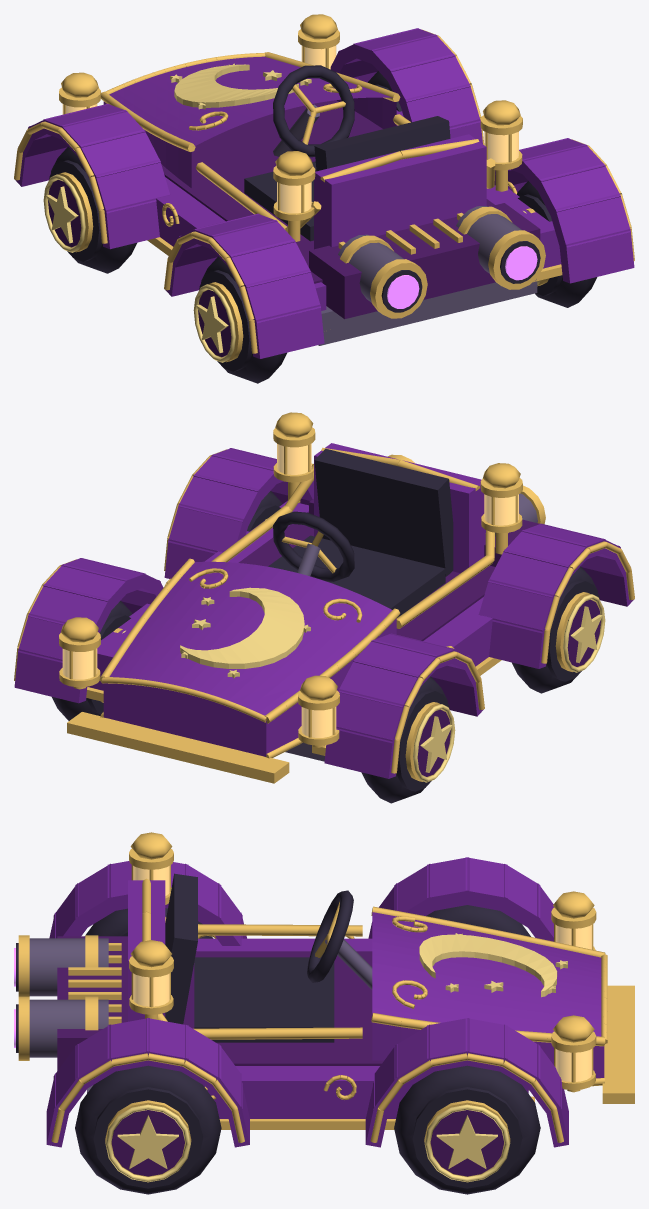
File: kart-lod1.glb
The picture shows the model from 3 angles, top to bottom: view 1: azimuth 30°, elevation 25°; view 2: azimuth 150°, elevation 25°; view 3: azimuth 270°, elevation 25°; orthographic projection. The views are drawn at different scales.
Parts seen in each view (by area): view 1: Chassis, AccentMesh, Wheel_FL, Wheel_RL, Exhaust_L, Exhaust_R, SteeringWheel, Wheel_RR; view 2: Chassis, AccentMesh, Wheel_FL, Wheel_RL, SteeringWheel, Wheel_FR, Exhaust_L, Wheel_RR; view 3: Chassis, AccentMesh, Wheel_FR, Wheel_RR, Exhaust_R, Exhaust_L, SteeringWheel, Wheel_FL, Wheel_RL.
Part boxes in pixels (x1=…): Chassis: x1=15, y1=28, x2=634, y2=358; AccentMesh: x1=14, y1=14, x2=634, y2=353; Wheel_FL: x1=43, y1=146, x2=136, y2=273; Wheel_RL: x1=193, y1=256, x2=286, y2=383; Exhaust_L: x1=338, y1=234, x2=427, y2=318; Exhaust_R: x1=456, y1=206, x2=545, y2=289; SteeringWheel: x1=273, y1=65, x2=354, y2=157; Wheel_RR: x1=517, y1=181, x2=597, y2=307; Chassis: x1=14, y1=443, x2=633, y2=778; AccentMesh: x1=14, y1=412, x2=634, y2=783; Wheel_FL: x1=361, y1=676, x2=455, y2=803; Wheel_RL: x1=512, y1=566, x2=605, y2=693; SteeringWheel: x1=273, y1=511, x2=354, y2=581; Wheel_FR: x1=52, y1=600, x2=131, y2=720; Exhaust_L: x1=495, y1=485, x2=545, y2=536; Wheel_RR: x1=247, y1=491, x2=282, y2=531; Chassis: x1=46, y1=857, x2=604, y2=1147; AccentMesh: x1=51, y1=832, x2=634, y2=1142; Wheel_FR: x1=394, y1=1065, x2=540, y2=1194; Wheel_RR: x1=75, y1=1065, x2=221, y2=1194; Exhaust_R: x1=14, y1=996, x2=108, y2=1060; Exhaust_L: x1=14, y1=935, x2=108, y2=996; SteeringWheel: x1=307, y1=890, x2=372, y2=989; Wheel_FL: x1=426, y1=905, x2=530, y2=936; Wheel_RL: x1=85, y1=908, x2=213, y2=938.
Size of the model in its own units: 2.92 by 1.54 by 3.85.
